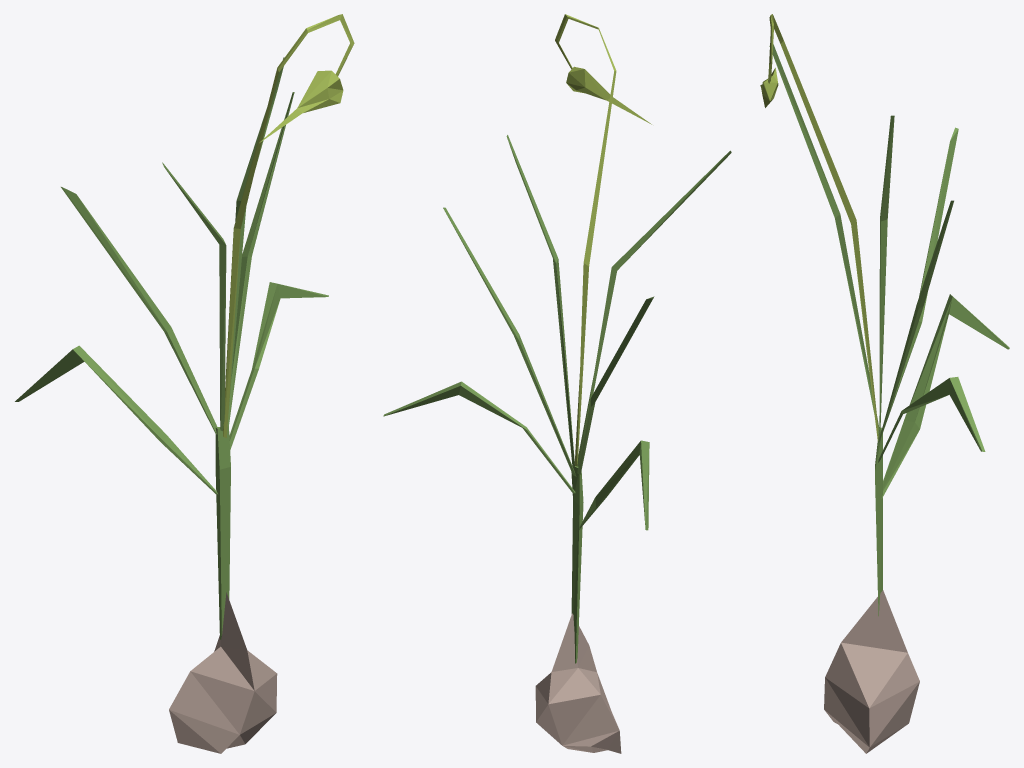
File: Garlic_3.fbx
The picture shows the model from 3 angles, left to right: view 1: azimuth 30°, elevation 25°; view 2: azimuth 150°, elevation 25°; view 3: azimuth 270°, elevation 25°; orthographic projection. The views are drawn at different scales.
Parts seen in each view (by area): view 1: Garlic_3; view 2: Garlic_3; view 3: Garlic_3.
Boxes of the visible parts, x1,y1,x2,y2 form: Garlic_3: (15, 14, 354, 753); Garlic_3: (383, 14, 731, 753); Garlic_3: (760, 14, 1009, 753).
Bounding box in the file's own units: 24.7 × 58.99 × 17.72.
